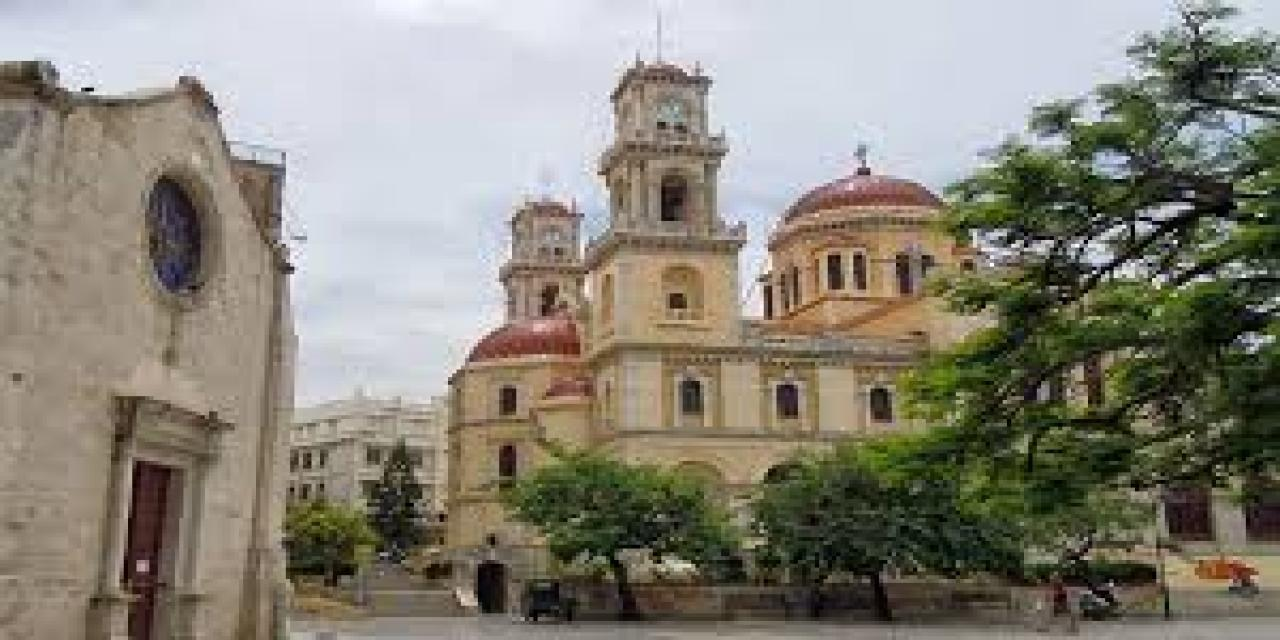Agios Minas: (445, 6, 1087, 568)
